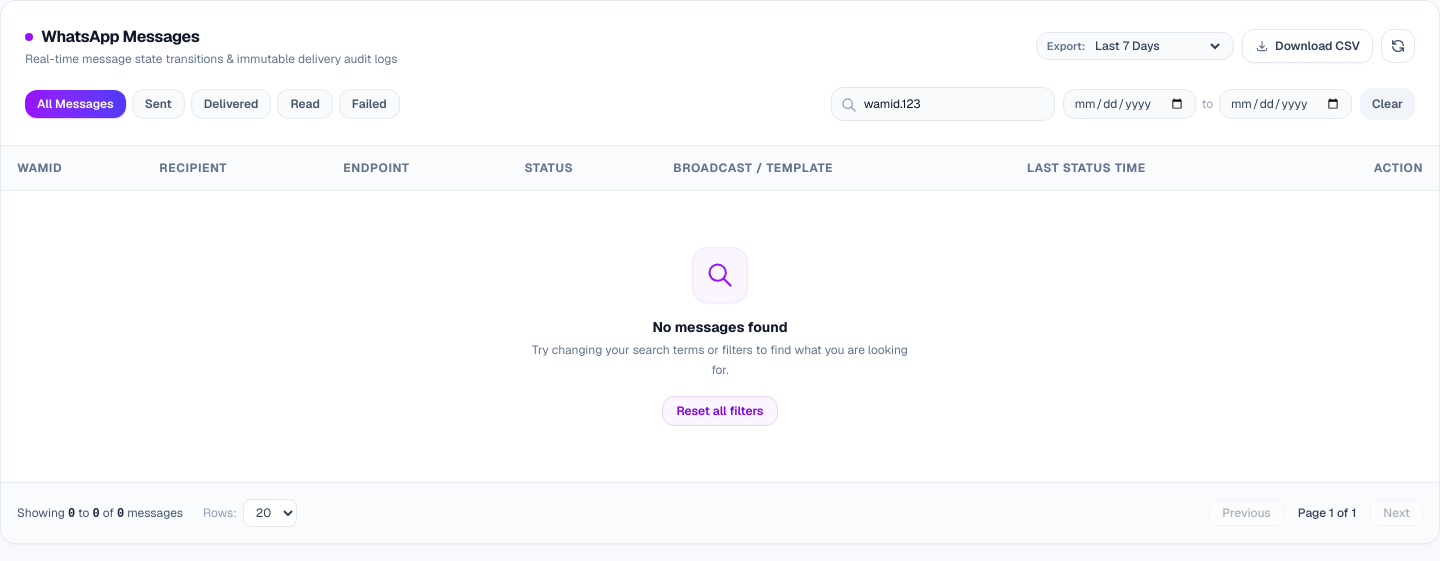
Test: MessagesTable Component & CSV Export Periods › disables export button when Custom Date Range is selected without valid dates
Select "Custom Date Range" in the dropdown named "Export Period". click: point(1157, 46)
box: [1091,37,1223,55]
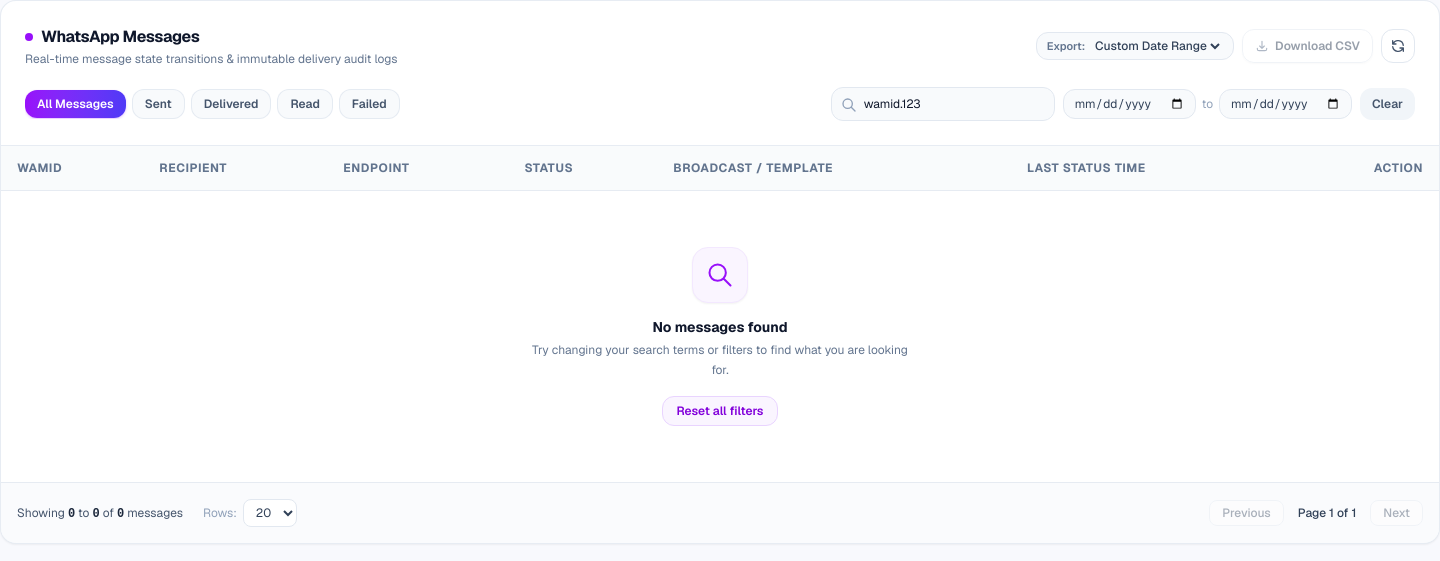
Now the button "Download CSV" is disabled, box [1242,29,1373,63]
